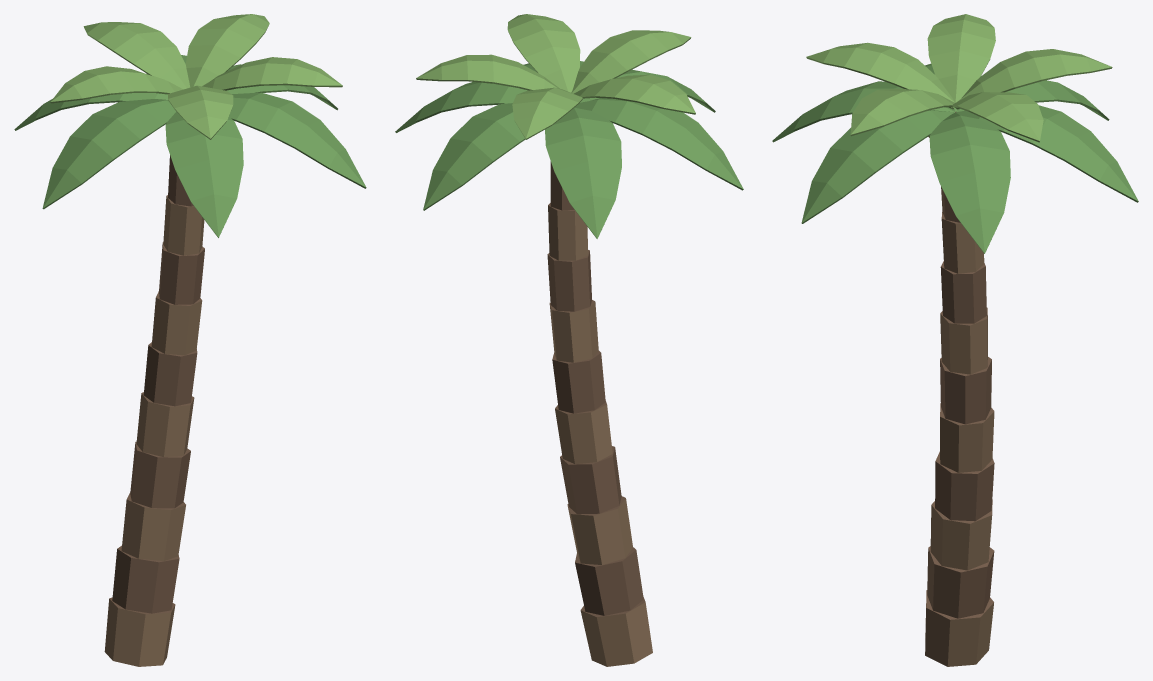
Rendered from OBS_N1_PalmeraCostena.fbx.
3 renders of one model, left to right at view 1: azimuth 30°, elevation 25°; view 2: azimuth 150°, elevation 25°; view 3: azimuth 270°, elevation 25°, orthographic. The views are drawn at different scales.
Parts seen in each view (by area): view 1: OBS_N1_PalmeraCostena; view 2: OBS_N1_PalmeraCostena; view 3: OBS_N1_PalmeraCostena.
Boxes of the visible parts, box(x1,y1,x2,y2) form: OBS_N1_PalmeraCostena: box(14, 14, 366, 666); OBS_N1_PalmeraCostena: box(395, 14, 743, 666); OBS_N1_PalmeraCostena: box(772, 14, 1138, 666).
Bounding box in the file's own units: 6.65 × 11.6 × 6.26.
